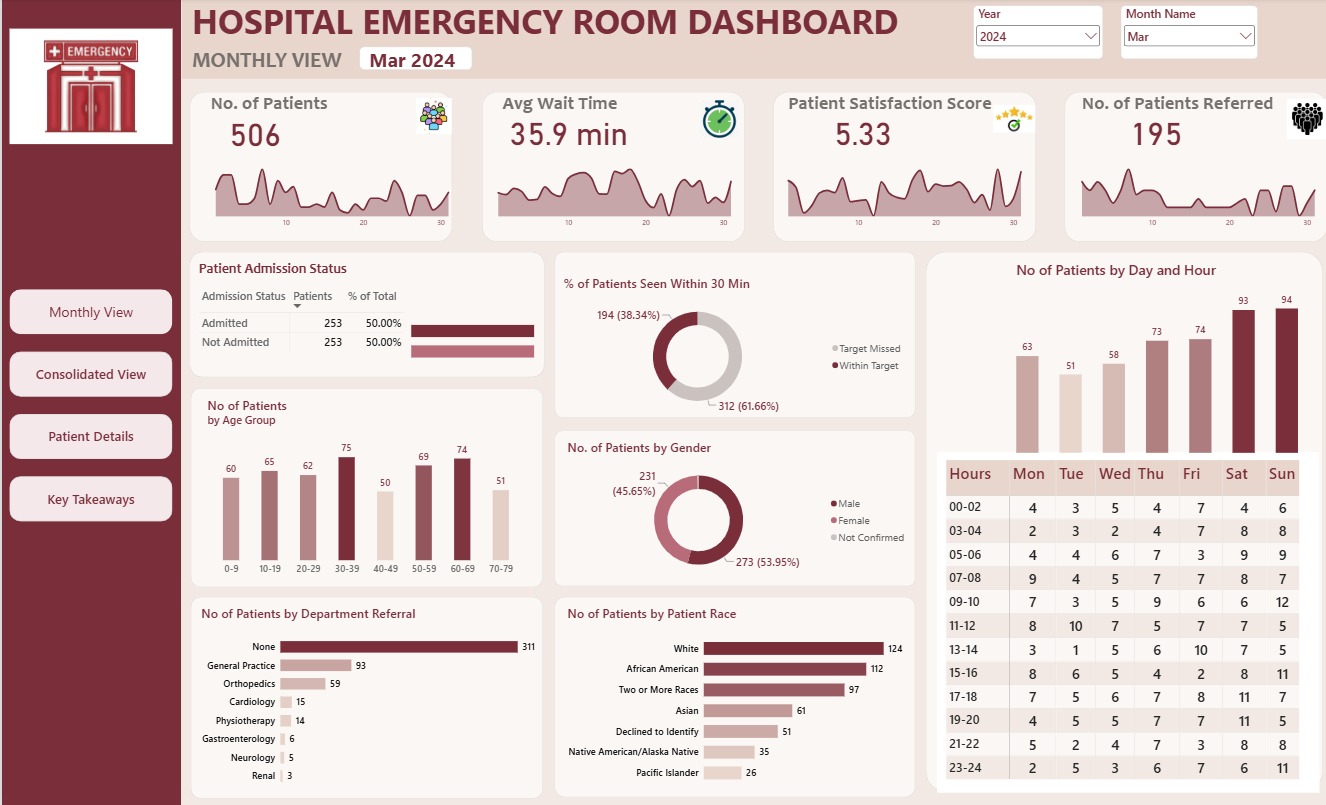

The dashboard page shown, as its layout file describes it:
{"tool":"powerbi","page":{"name":"Monthly View","canvas":[2300,1400],"ordinal":0},"visuals":[{"type":"shape","box":[0,0,310,1400.5],"z":0},{"type":"shape","box":[310.7,0,1989.8,140],"z":1000},{"type":"textbox","box":[283.6,0,1851.7,108.5],"z":2000},{"type":"textbox","box":[327.9,0,1260,106],"z":3000},{"type":"shape","box":[325.6,163.2,455,260],"z":4000},{"type":"textbox","box":[327.9,83.8,293.4,56.7],"z":5000},{"type":"cardVisual","fields":{"Data":["Hospital ER_Data.No of Patients"]},"box":[360.6,198.2,152.5,75],"z":6000},{"type":"slicer","fields":{"Values":["Date Table.Year"]},"box":[1682.5,12.5,225,92.5],"z":7000},{"type":"slicer","fields":{"Values":["Date Table.Month Name"]},"box":[1937.5,12.5,237.5,92.5],"z":8000},{"type":"textbox","box":[360.6,163.2,257.5,67.5],"z":9000},{"type":"areaChart","fields":{"Category":["Date Table.Date.Variation.Date Hierarchy.Day"],"Y":["Hospital ER_Data.No of Patients"]},"box":[343.1,273.2,455,145],"z":10000},{"type":"cardVisual","fields":{"Data":["Min(Date Table.Month & Year)"]},"box":[620,85,195,40],"z":11000},{"type":"shape","box":[831.7,162.8,455,260],"z":12000},{"type":"shape","box":[1335.8,162.8,455,260],"z":13000},{"type":"shape","box":[1840,162.8,455,260],"z":14000},{"type":"textbox","box":[852.5,162.5,257.5,62.5],"z":15000},{"type":"cardVisual","fields":{"Data":["Hospital ER_Data.Avg Wait Time"]},"box":[852.5,197.5,257.5,75],"z":16000},{"type":"areaChart","fields":{"Category":["Date Table.Date.Variation.Date Hierarchy.Day"],"Y":["Avg(Hospital ER_Data.Patient Waittime)"]},"box":[832.5,272.5,455,145],"z":17000},{"type":"textbox","box":[310,422.5,522.5,82.5],"z":18000},{"type":"textbox","box":[1362.5,162.5,397.5,62.5],"z":19000},{"type":"cardVisual","fields":{"Data":["Hospital ER_Data.Satisfaction Score"]},"box":[1362.5,197.5,257.5,75],"z":20000},{"type":"areaChart","fields":{"Category":["Date Table.Date.Variation.Date Hierarchy.Day"],"Y":["Hospital ER_Data.Satisfaction Score"]},"box":[1335,272.5,455,145],"z":21000},{"type":"textbox","box":[1870,162.5,375,62.5],"z":22000},{"type":"cardVisual","fields":{"Data":["Hospital ER_Data.No of Patients Referred"]},"box":[1870,197.5,257.5,75],"z":23000},{"type":"shape","box":[325,440,615,217.5],"z":24000},{"type":"areaChart","fields":{"Category":["Date Table.Date.Variation.Date Hierarchy.Day"],"Y":["Hospital ER_Data.No of Patients Referred"]},"box":[1845,272.5,455,145],"z":25000},{"type":"pivotTable","title":"Patient Admission Status","fields":{"Rows":["Hospital ER_Data.Admission Status"],"Values":["Hospital ER_Data.No of Patients1","Hospital ER_Data.No of Patients"]},"box":[325,440,612.5,217.5],"z":26000},{"type":"barChart","fields":{"Category":["Hospital ER_Data.Admission Status"],"Y":["Hospital ER_Data.No of Patients"]},"box":[692.5,525,245,132.5],"z":27000},{"type":"shape","box":[327.5,675,610,345],"z":28000},{"type":"clusteredColumnChart","fields":{"Category":["Hospital ER_Data.Age Group"],"Y":["Hospital ER_Data.No of Patients"]},"box":[340,675,582.5,345],"z":29000},{"type":"shape","box":[327.5,1037.5,610,350],"z":30000},{"type":"clusteredBarChart","title":"No of Patients by Department Referral","fields":{"Category":["Hospital ER_Data.Department Referral"],"Y":["Hospital ER_Data.No of Patients"]},"box":[330,1037.5,610,350],"z":31000},{"type":"shape","box":[957.5,440,625,287.5],"z":32000},{"type":"donutChart","title":"% of Patients Seen Within 30 Min","fields":{"Category":["Hospital ER_Data.Waittime Status"],"Y":["Hospital ER_Data.No of Patients"]},"box":[957.5,465,625,270],"z":33000},{"type":"shape","box":[957.5,750,625,270],"z":34000},{"type":"donutChart","title":"No. of Patients by Gender","fields":{"Category":["Hospital ER_Data.Patient Gender"],"Y":["Hospital ER_Data.No of Patients"]},"box":[962.5,750,625,270],"z":35000},{"type":"shape","box":[957.5,1037.5,625,347.5],"z":36000},{"type":"clusteredBarChart","fields":{"Category":["Hospital ER_Data.Patient Race"],"Y":["Hospital ER_Data.No of Patients"]},"box":[962.5,1037.5,612.5,347.5],"z":37000},{"type":"shape","box":[1600,440,687.5,935],"z":38000},{"type":"pivotTable","fields":{"Columns":["Date Table.Day Name"],"Rows":["Hospital ER_Data.Waittime Interval"],"Values":["Hospital ER_Data.No of Patients"]},"box":[1620,785,662.5,590],"z":39000},{"type":"columnChart","title":"No of Patients by Day and Hour","fields":{"Category":["Date Table.Day Name"],"Y":["Hospital ER_Data.No of Patients"]},"box":[1740,440,522.5,365],"z":40000},{"type":"image","box":[717.5,172.5,62.5,62.5],"z":41000},{"type":"image","box":[1210,172.5,65,72.5],"z":42000},{"type":"image","box":[1717.5,175,72.5,67.5],"z":43000},{"type":"image","box":[2225,172.5,70,72.5],"z":44000},{"type":"image","box":[12.5,12.5,282.5,280],"z":45000},{"type":"pageNavigator","box":[12.5,505,282.5,402.5],"z":46000}]}

Visuals, with their boxes in screenshot pixels (x1, y1, x2, y2), scaled from the page's 2300x1400 canvas onto the 1326x805 screenshot:
shape: 0/0/179/804
shape: 179/0/1325/80
textbox: 164/0/1231/62
textbox: 189/0/915/61
shape: 188/94/450/243
textbox: 189/48/358/81
cardVisual - Hospital ER_Data.No of Patients: 208/114/296/157
slicer - Date Table.Year: 970/7/1100/60
slicer - Date Table.Month Name: 1117/7/1254/60
textbox: 208/94/356/133
areaChart - Date Table.Date.Variation.Date Hierarchy.Day x Hospital ER_Data.No of Patients: 198/157/460/240
cardVisual - Min(Date Table.Month & Year): 357/49/470/72
shape: 479/94/742/243
shape: 770/94/1032/243
shape: 1061/94/1323/243
textbox: 491/93/640/129
cardVisual - Hospital ER_Data.Avg Wait Time: 491/114/640/157
areaChart - Date Table.Date.Variation.Date Hierarchy.Day x Avg(Hospital ER_Data.Patient Waittime): 480/157/742/240
textbox: 179/243/480/290
textbox: 786/93/1015/129
cardVisual - Hospital ER_Data.Satisfaction Score: 786/114/934/157
areaChart - Date Table.Date.Variation.Date Hierarchy.Day x Hospital ER_Data.Satisfaction Score: 770/157/1032/240
textbox: 1078/93/1294/129
cardVisual - Hospital ER_Data.No of Patients Referred: 1078/114/1227/157
shape: 187/253/542/378
areaChart - Date Table.Date.Variation.Date Hierarchy.Day x Hospital ER_Data.No of Patients Referred: 1064/157/1325/240
"Patient Admission Status" pivotTable: 187/253/540/378
barChart - Hospital ER_Data.Admission Status x Hospital ER_Data.No of Patients: 399/302/540/378
shape: 189/388/540/586
clusteredColumnChart - Hospital ER_Data.Age Group x Hospital ER_Data.No of Patients: 196/388/532/586
shape: 189/597/540/798
"No of Patients by Department Referral" clusteredBarChart: 190/597/542/798
shape: 552/253/912/418
"% of Patients Seen Within 30 Min" donutChart: 552/267/912/423
shape: 552/431/912/586
"No. of Patients by Gender" donutChart: 555/431/915/586
shape: 552/597/912/796
clusteredBarChart - Hospital ER_Data.Patient Race x Hospital ER_Data.No of Patients: 555/597/908/796
shape: 922/253/1319/791
pivotTable - Date Table.Day Name x Hospital ER_Data.Waittime Interval: 934/451/1316/791
"No of Patients by Day and Hour" columnChart: 1003/253/1304/463
image: 414/99/450/135
image: 698/99/735/141
image: 990/101/1032/139
image: 1283/99/1323/141
image: 7/7/170/168
pageNavigator: 7/290/170/522
